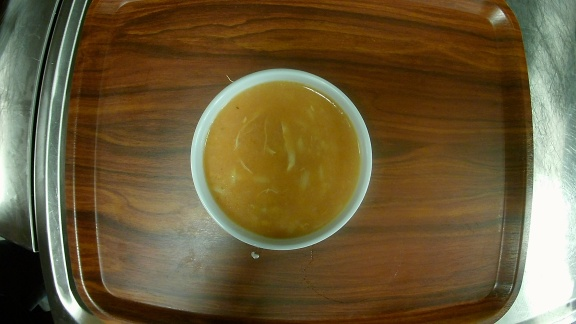tavukcorba: (186, 67, 376, 252)
